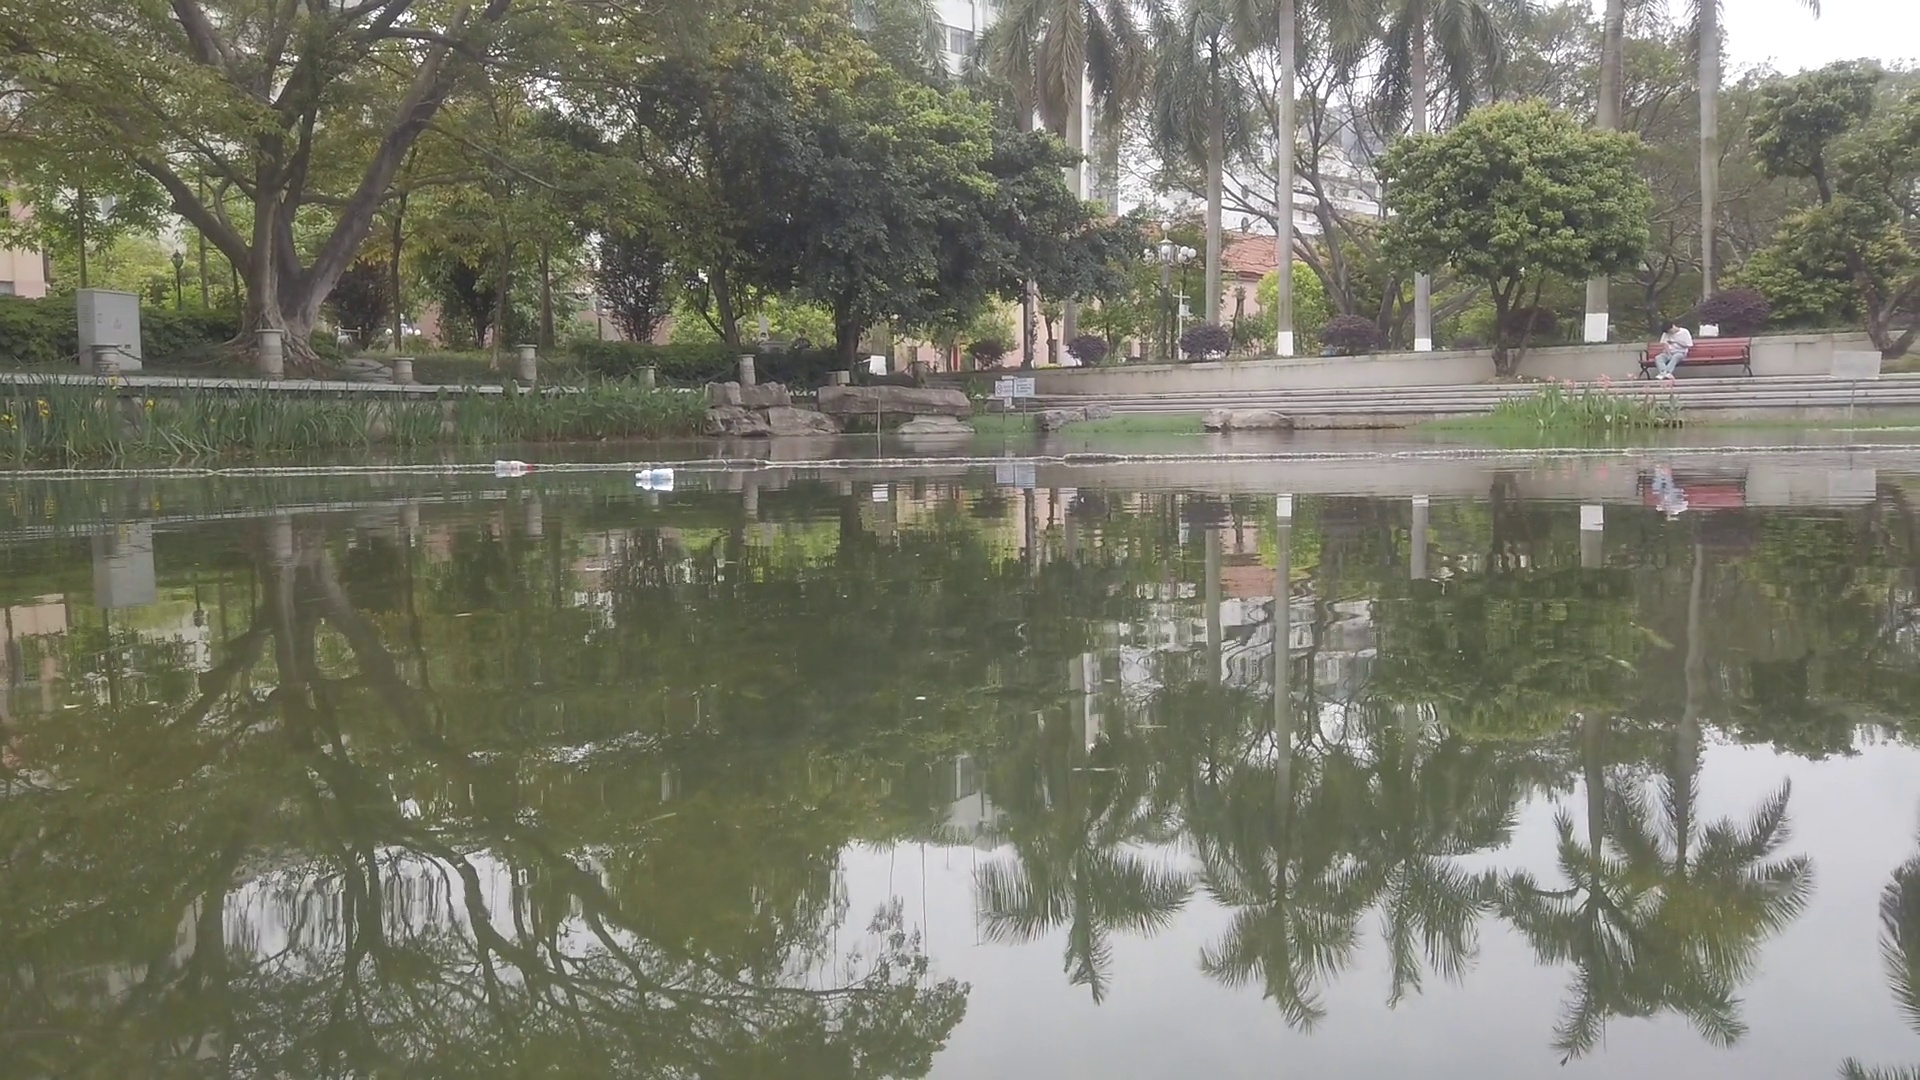bottle: (633, 468, 673, 480), (495, 460, 531, 472)
